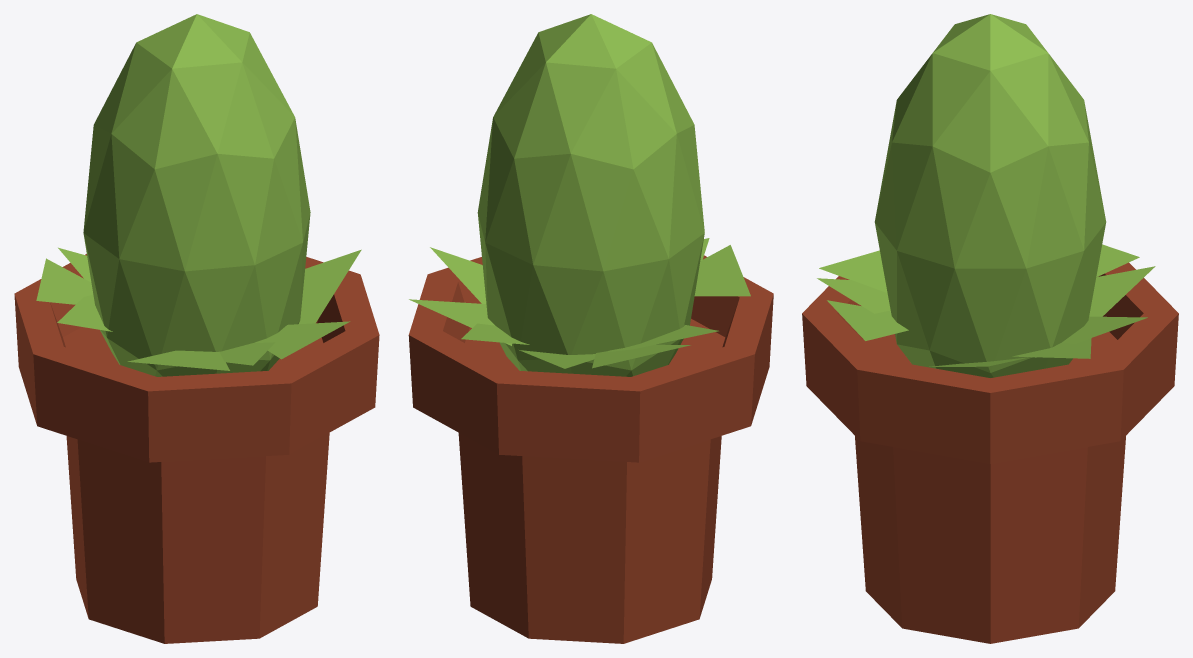
The model's file is plant1.fbx.
3 renders of one model, left to right at view 1: azimuth 30°, elevation 25°; view 2: azimuth 150°, elevation 25°; view 3: azimuth 270°, elevation 25°, orthographic.
Visible parts, largest first — view 1: Cylinder.014; view 2: Cylinder.014; view 3: Cylinder.014.
Boxes of the visible parts, box(x1,y1,x2,y2) form: Cylinder.014: box(14, 14, 379, 643); Cylinder.014: box(408, 14, 773, 643); Cylinder.014: box(802, 14, 1178, 643).
Size of the model in its own units: 43.03 by 72.72 by 43.03.
